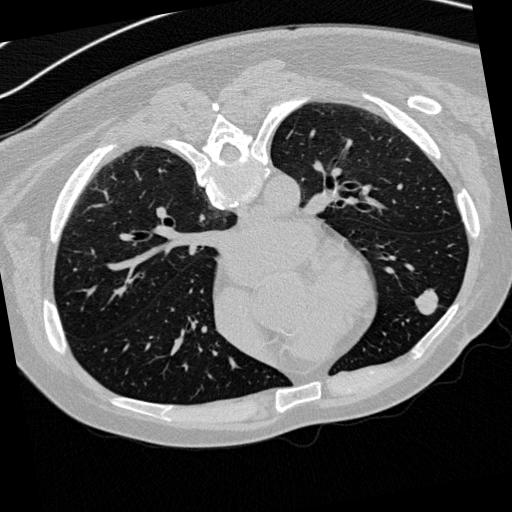nodule: (411, 289, 442, 320)
